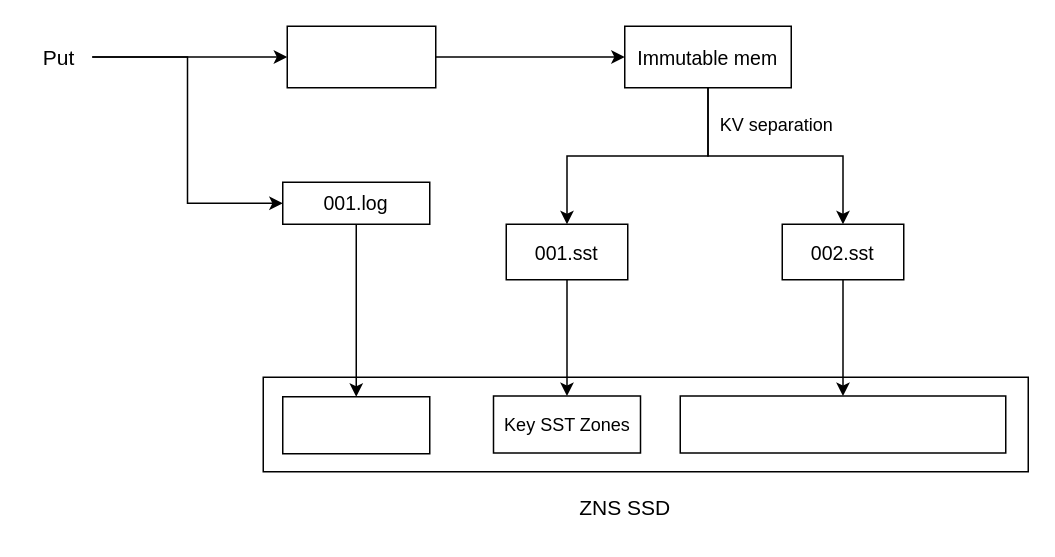
The diagram is 1055 pixels wide and 557 high, and some of its shapes have lost their labels. Here are the shapes that lost their labels. From the top down, the box of each, then its label:
(286, 25, 436, 88): Memtable
(281, 395, 430, 454): WAL Zones
(679, 394, 1006, 453): Value SST Zones
